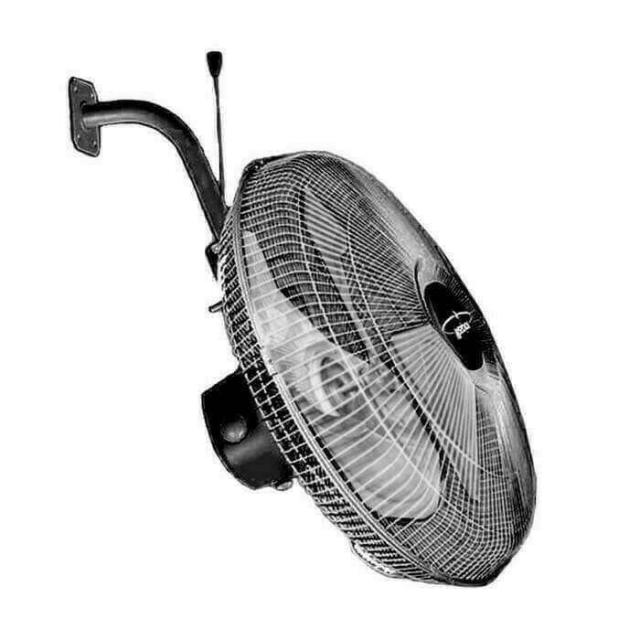fan: (56, 16, 550, 602)
